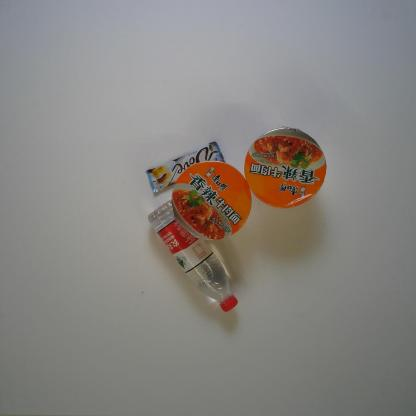Chocolate: (146, 140, 227, 197)
Drink: (146, 195, 238, 313)
Instant Noodles: (241, 126, 331, 212), (170, 160, 253, 242)
